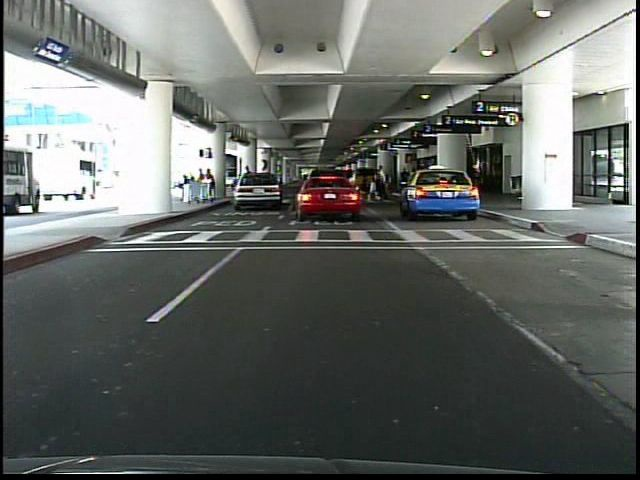person: (243, 163, 257, 206), (378, 164, 390, 200), (399, 165, 410, 202), (359, 172, 369, 202)
